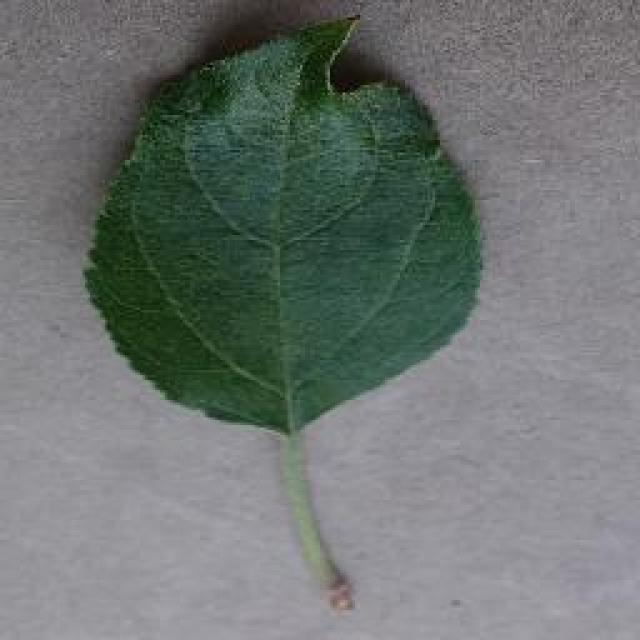apple healthy: (80, 10, 485, 610)
